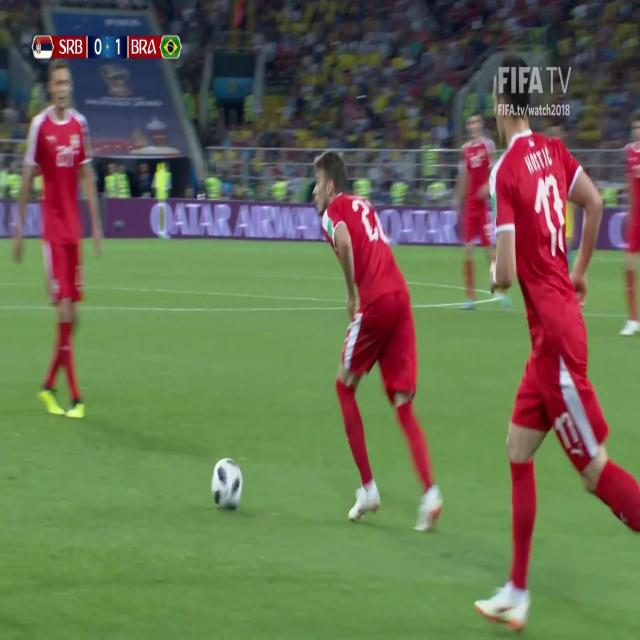player: (483, 59, 640, 639), (297, 154, 444, 542), (3, 52, 102, 422), (451, 113, 509, 315), (616, 109, 640, 337)
